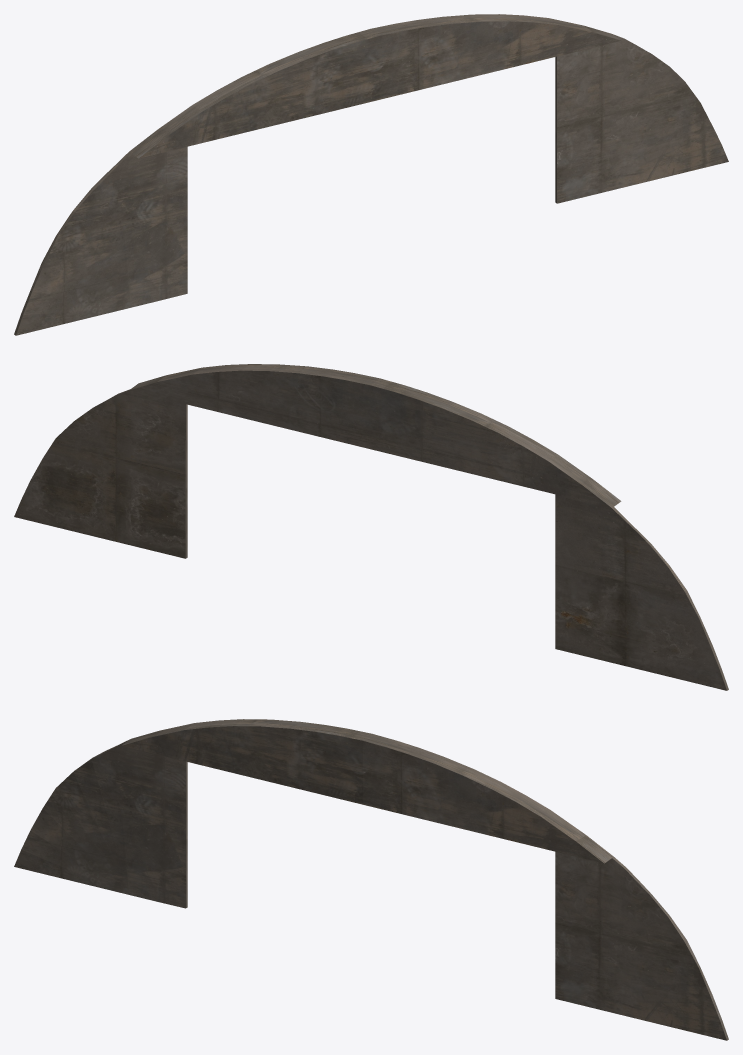
File: door_fundament.fbx
3 views of the same model, one above another, from view 1: azimuth 30°, elevation 25°; view 2: azimuth 150°, elevation 25°; view 3: azimuth 330°, elevation 25° (orthographic).
Parts seen in each view (by area): view 1: doors_fundament; view 2: doors_fundament; view 3: doors_fundament.
Boxes of the visible parts, x1,y1,x2,y2 form: doors_fundament: [14, 14, 728, 335]; doors_fundament: [14, 364, 728, 690]; doors_fundament: [14, 719, 728, 1040].
Bounding box in the file's own units: 2834 × 830 × 65.42.
